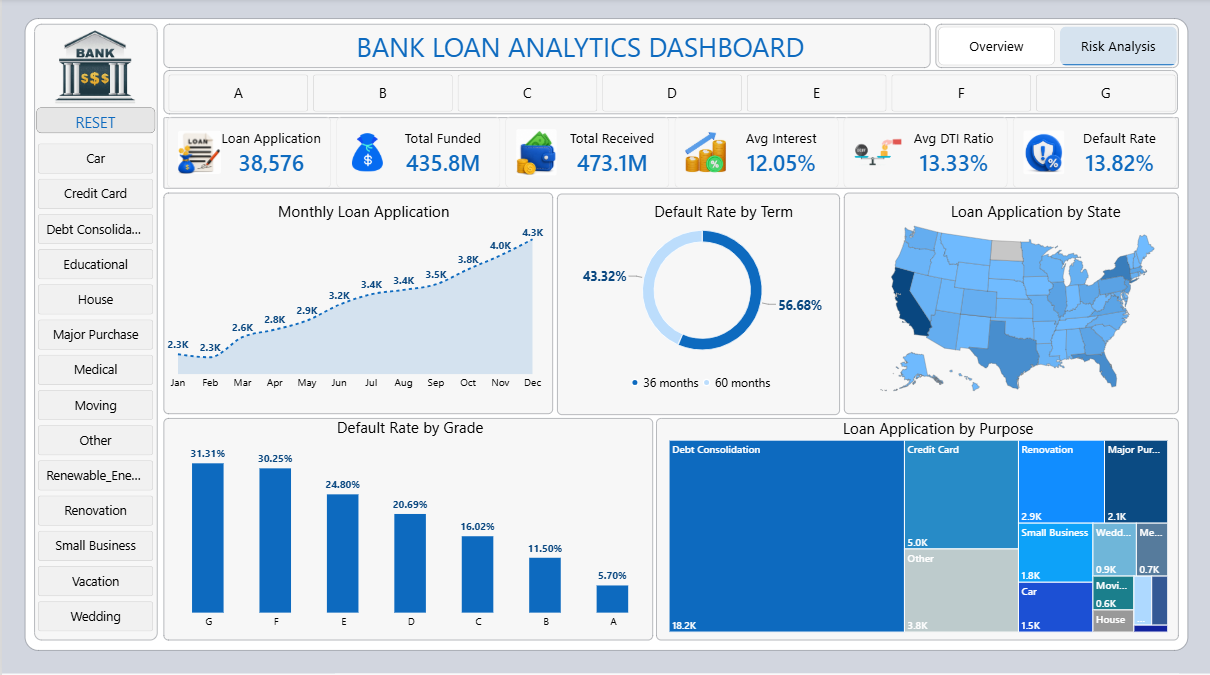

The page's visual inventory and layout, read from the dashboard file:
{"tool":"powerbi","page":{"name":"Risk Analysis","canvas":[1920,1080],"ordinal":1},"visuals":[{"type":"cardVisual","fields":{"Data":["all_measures.Total loan application","all_measures.Total Funded Amount","all_measures.Total Amount Received","all_measures.Average Interest Rate","all_measures.Average DTI Ratio","all_measures.Default Rate1"]},"box":[262,188,1608,114],"z":0},{"type":"lineChart","title":"Loan Application by Month","fields":{"Y":["all_measures.Total Loan application"],"Category":["dim_date.Month"]},"box":[243.4,343.6,637,300.6],"z":1000},{"type":"image","box":[55,50,187,117],"z":2000},{"type":"advancedSlicerVisual","fields":{"Values":["financial_loan.PURPOSE"]},"box":[57.3,231.4,183.7,782.6],"z":3000},{"type":"advancedSlicerVisual","fields":{"Values":["dim_grade.GRADE"]},"box":[264,121,1608,59],"z":4000},{"type":"actionButton","box":[54.9,174.2,188.5,40.6],"z":5000},{"type":"textbox","box":[482,47,875.6,69.2],"z":6000},{"type":"pageNavigator","box":[1488.8,45.3,381.7,62],"z":7000},{"type":"donutChart","title":"Defaulted Loans by Term","fields":{"Category":["financial_loan.TERM"],"Y":["all_measures.Defaulted Loans"]},"box":[905.3,322,419.2,322],"z":8000},{"type":"clusteredColumnChart","title":"Defaulted Loans by Grade","fields":{"Category":["dim_grade.GRADE"],"Y":["all_measures.Default Rate"]},"box":[242.5,687.5,815,337.5],"z":9000},{"type":"treemap","fields":{"Values":["all_measures.Total Loan application"],"Group":["financial_loan.PURPOSE"]},"box":[1045,689.5,825,335],"z":10000},{"type":"shapeMap","title":"Loan Application by State","fields":{"Category":["financial_loan.ADDRESS_STATE"]},"box":[1357.6,322.1,515.4,343.6],"z":11000},{"type":"textbox","box":[1479.3,322.1,330,42.5],"z":12000},{"type":"textbox","box":[410,322.5,330,42.5],"z":13000},{"type":"textbox","box":[982.5,322.5,330,42.5],"z":14000},{"type":"textbox","box":[485,665,330,42.5],"z":15000},{"type":"textbox","box":[1325,667.5,330,42.5],"z":16000}]}

Visuals, with their boxes in screenshot pixels (x1, y1, x2, y2), scaled from the page's 1920x1080 canvas onto the 1210x675 screenshot:
cardVisual - all_measures.Total loan application x all_measures.Total Funded Amount: pyautogui.locateOnScreen(165, 118, 1178, 189)
"Loan Application by Month" lineChart: pyautogui.locateOnScreen(153, 215, 555, 403)
image: pyautogui.locateOnScreen(35, 31, 153, 104)
advancedSlicerVisual - financial_loan.PURPOSE: pyautogui.locateOnScreen(36, 145, 152, 634)
advancedSlicerVisual - dim_grade.GRADE: pyautogui.locateOnScreen(166, 76, 1180, 112)
actionButton: pyautogui.locateOnScreen(35, 109, 153, 134)
textbox: pyautogui.locateOnScreen(304, 29, 856, 73)
pageNavigator: pyautogui.locateOnScreen(938, 28, 1179, 67)
"Defaulted Loans by Term" donutChart: pyautogui.locateOnScreen(571, 201, 835, 402)
"Defaulted Loans by Grade" clusteredColumnChart: pyautogui.locateOnScreen(153, 430, 666, 641)
treemap - all_measures.Total Loan application x financial_loan.PURPOSE: pyautogui.locateOnScreen(659, 431, 1178, 640)
"Loan Application by State" shapeMap: pyautogui.locateOnScreen(856, 201, 1180, 416)
textbox: pyautogui.locateOnScreen(932, 201, 1140, 228)
textbox: pyautogui.locateOnScreen(258, 202, 466, 228)
textbox: pyautogui.locateOnScreen(619, 202, 827, 228)
textbox: pyautogui.locateOnScreen(306, 416, 514, 442)
textbox: pyautogui.locateOnScreen(835, 417, 1043, 444)
